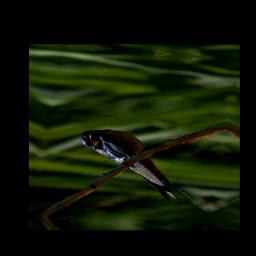Swallow: (68, 126, 213, 205)
